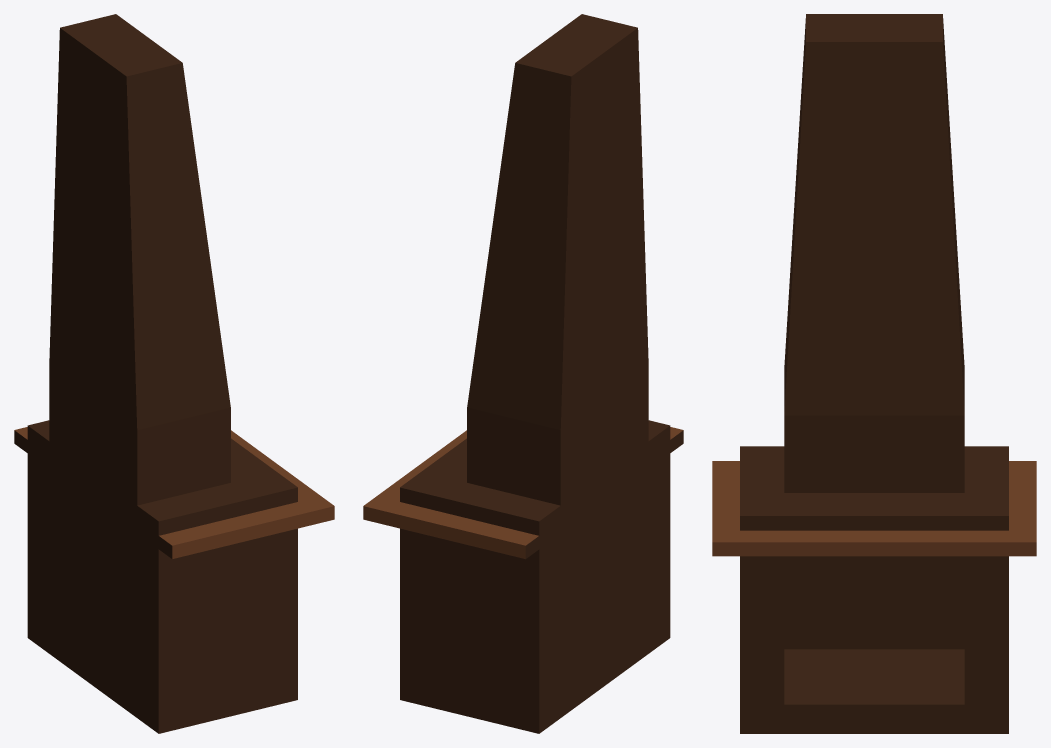
File: fireplace.fbx
3 views of the same model, side by side, from view 1: azimuth 30°, elevation 25°; view 2: azimuth 150°, elevation 25°; view 3: azimuth 270°, elevation 25° (orthographic). The views are drawn at different scales.
Parts seen in each view (by area): view 1: Cube; view 2: Cube; view 3: Cube.
Part boxes in pixels (<box>): Cube: <box>14,14,334,733</box>; Cube: <box>363,14,683,733</box>; Cube: <box>712,14,1036,733</box>.
Bounding box in the file's own units: 519 × 1935 × 874.
